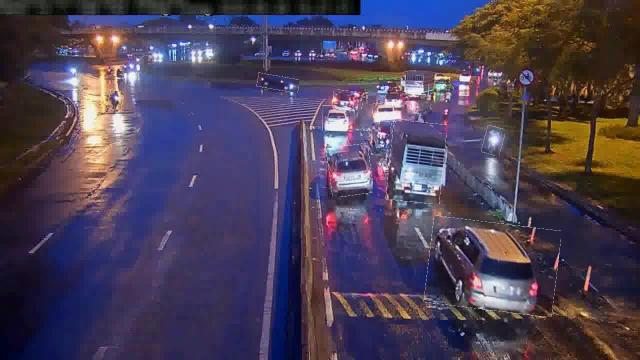Bike: (482, 126, 503, 156), (108, 90, 124, 110)
Car: (426, 219, 560, 314), (328, 144, 372, 196), (373, 102, 411, 122), (257, 74, 299, 92), (323, 106, 349, 130), (333, 90, 363, 110)
Truck: (388, 121, 444, 203)
